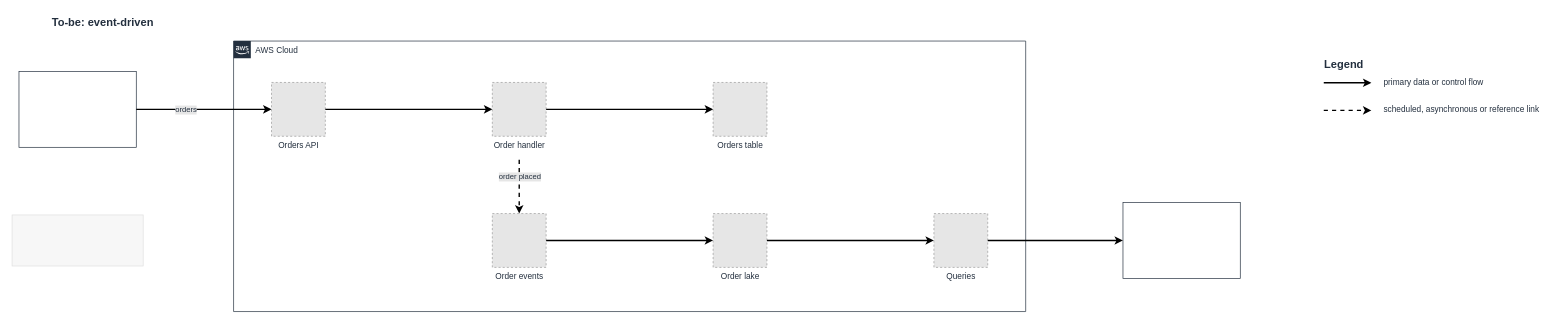
Image size: 1553x324. Some labels were removed from this diagram. Grey dashed boxes stand in for pictures. Here are the shapes that lost their labels. From the top down, the centre of each, then its label:
At (77,109): "Web shop".
At (77,240): "Assumption: single region; dashboards trail an order by about a minute.".
At (1181,240): "Live dashboards".
